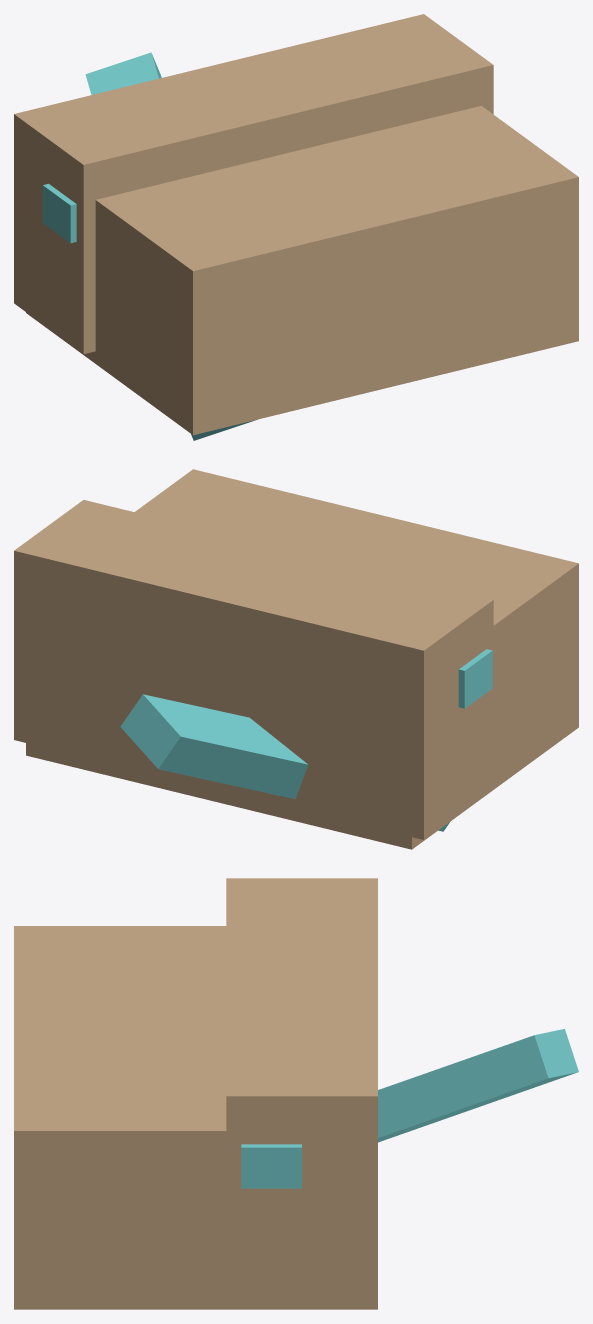
File: sig_fox.glb
3 renders of one model, top to bottom at view 1: azimuth 30°, elevation 25°; view 2: azimuth 150°, elevation 25°; view 3: azimuth 270°, elevation 25°, orthographic. The views are drawn at different scales.
Visible parts, largest first — view 1: Cube, Cube.001, Cube.003, Cube.002; view 2: Cube.001, Cube, Cube.003, Cube.002; view 3: Cube, Cube.001, Cube.003, Cube.002.
Boxes of the visible parts, x1,y1,x2,y2 form: Cube: (26, 106, 578, 435); Cube.001: (14, 14, 493, 354); Cube.003: (85, 52, 255, 440); Cube.002: (42, 183, 76, 243); Cube.001: (14, 500, 493, 839); Cube: (26, 469, 578, 849); Cube.003: (120, 694, 449, 831); Cube.002: (458, 649, 492, 708); Cube: (14, 926, 377, 1309); Cube.001: (226, 878, 377, 1302); Cube.003: (378, 1029, 578, 1142); Cube.002: (241, 1144, 301, 1188).
Size of the model in its own units: 0.35 by 0.2168 by 0.3725.
